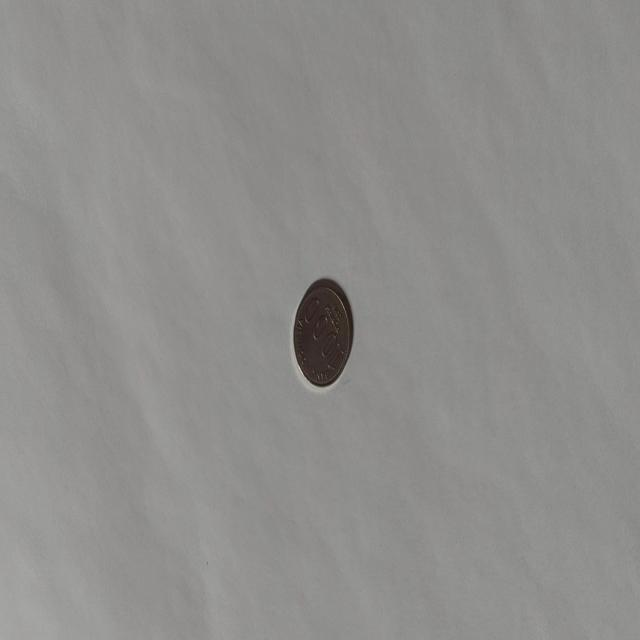seribu rupiah koin: (291, 276, 353, 390)
